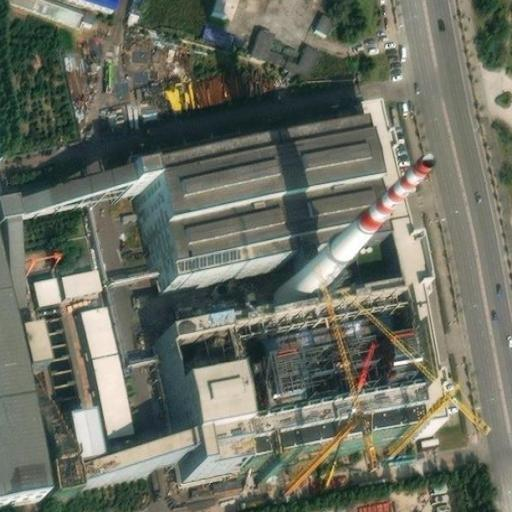building: (155, 97, 452, 454), (1, 155, 161, 227), (80, 301, 138, 434), (70, 430, 188, 490), (35, 261, 102, 300), (73, 395, 109, 447), (279, 38, 326, 74), (22, 311, 51, 357), (251, 21, 283, 59), (197, 20, 236, 49), (315, 6, 336, 29)
